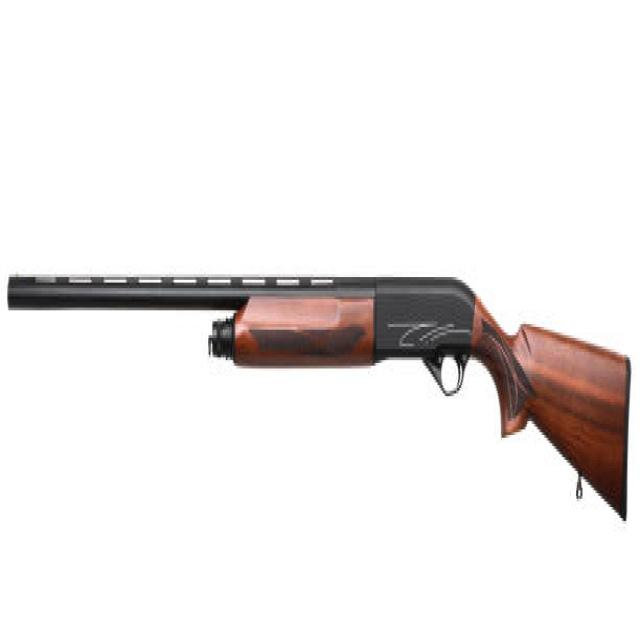rifle: (2, 258, 634, 535)
